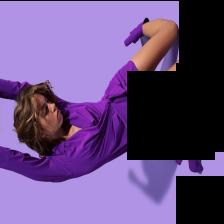purple: (0, 60, 166, 182), (176, 129, 207, 172), (124, 16, 149, 45), (0, 77, 29, 99)
